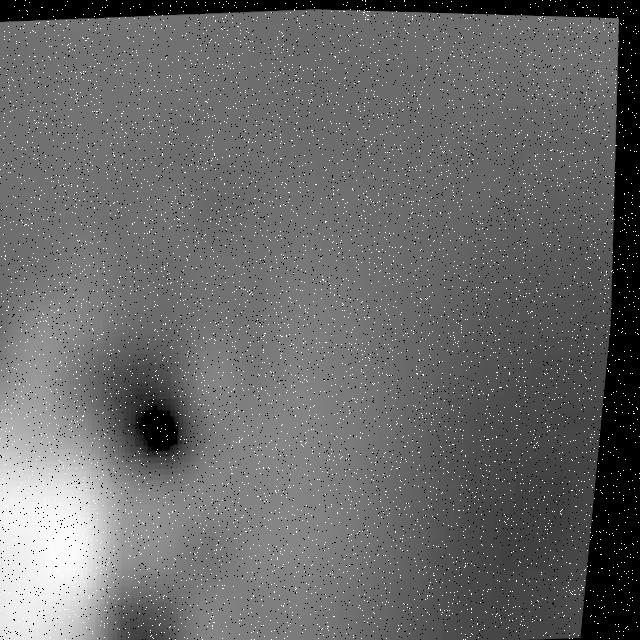person: (1, 297, 153, 640)
